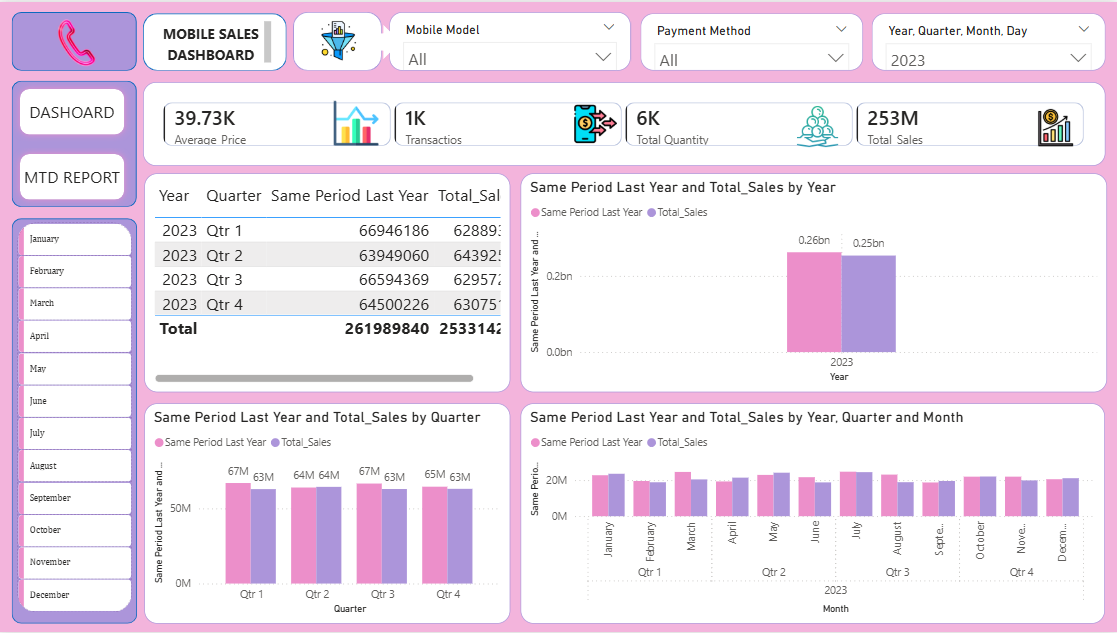

The dashboard page shown, as its layout file describes it:
{"tool":"powerbi","page":{"name":"SAME PERIOD LAST YEAR","canvas":[1280,720],"ordinal":2},"visuals":[{"type":"shape","box":[15.7,11.4,142.9,67.1],"z":0},{"type":"shape","box":[15.7,90,142.9,144.3],"z":1000},{"type":"cardVisual","fields":{"Data":["Moile sales data.Average_Price","Moile sales data.Transactios","Moile sales data.Total Quantity","Moile sales data.Total_Sales"]},"box":[166,92,1100,96],"z":2000},{"type":"image","box":[1186.7,113.3,43.3,61.7],"z":3000},{"type":"image","box":[911.7,116.7,50,50],"z":4000},{"type":"image","box":[658.6,112.9,48.6,52.9],"z":5000},{"type":"image","box":[382.9,112.9,52.9,51.4],"z":6000},{"type":"slicer","fields":{"Values":["Moile sales data.Mobile Model"]},"box":[447.1,11.4,275.7,67.1],"z":7000},{"type":"slicer","fields":{"Values":["Moile sales data.Payment Method"]},"box":[734.3,12.9,254.3,65.7],"z":8000},{"type":"slicer","fields":{"Values":["Custom_Calender.DATE.Variation.Date Hierarchy.Year","Custom_Calender.DATE.Variation.Date Hierarchy.Quarter","Custom_Calender.DATE.Variation.Date Hierarchy.Month","Custom_Calender.DATE.Variation.Date Hierarchy.Day"]},"box":[998.6,12.9,267.1,65.7],"z":9000},{"type":"shape","box":[337.1,11.4,101.4,67.1],"z":10000},{"type":"image","box":[342.9,20,92.9,48.6],"z":11000},{"type":"shape","box":[418.3,25,41.7,40],"z":12000},{"type":"shape","box":[165.7,12.9,164.3,65.7],"z":13000},{"type":"textbox","box":[178.3,16.7,138.3,58.3],"z":14000},{"type":"image","box":[0,0,182,92],"z":15000},{"type":"shape","box":[15,246.7,143.3,463.3],"z":17000},{"type":"advancedSlicerVisual","fields":{"Values":["Custom_Calender.DATE.Variation.Date Hierarchy.Month"]},"box":[16.7,246.7,141.7,463.3],"z":18000},{"type":"tableEx","fields":{"Values":["Custom_Calender.DATE.Variation.Date Hierarchy.Year","Custom_Calender.DATE.Variation.Date Hierarchy.Quarter","Moile sales data.Same Period Last Year","Moile sales data.Total_Sales"]},"box":[166.7,195,418.3,250],"z":18001},{"type":"clusteredColumnChart","fields":{"Category":["Custom_Calender.DATE.Variation.Date Hierarchy.Year","Custom_Calender.DATE.Variation.Date Hierarchy.Quarter"],"Y":["Moile sales data.Same Period Last Year","Moile sales data.Total_Sales"]},"box":[596.7,195,670,250],"z":18002},{"type":"clusteredColumnChart","fields":{"Category":["Custom_Calender.DATE.Variation.Date Hierarchy.Year","Custom_Calender.DATE.Variation.Date Hierarchy.Quarter"],"Y":["Moile sales data.Same Period Last Year","Moile sales data.Total_Sales"]},"box":[166.7,458.3,418.3,251.7],"z":18003},{"type":"clusteredColumnChart","fields":{"Category":["Custom_Calender.DATE.Variation.Date Hierarchy.Year","Custom_Calender.DATE.Variation.Date Hierarchy.Quarter","Custom_Calender.DATE.Variation.Date Hierarchy.Month","Custom_Calender.DATE.Variation.Date Hierarchy.Day"],"Y":["Moile sales data.Same Period Last Year","Moile sales data.Total_Sales"]},"box":[596.7,458.3,668.3,251.7],"z":18004},{"type":"pageNavigator","box":[16.7,91.7,135,143.3],"z":18005}]}

Visuals, with their boxes in screenshot pixels (x1, y1, x2, y2), scaled from the page's 1280x720 canvas onto the 1117x633 screenshot:
shape: box(14, 10, 138, 69)
shape: box(14, 79, 138, 206)
cardVisual - Moile sales data.Average_Price x Moile sales data.Transactios: box(145, 81, 1105, 165)
image: box(1036, 100, 1073, 154)
image: box(796, 103, 839, 147)
image: box(575, 99, 617, 146)
image: box(334, 99, 380, 144)
slicer - Moile sales data.Mobile Model: box(390, 10, 631, 69)
slicer - Moile sales data.Payment Method: box(641, 11, 863, 69)
slicer - Custom_Calender.DATE.Variation.Date Hierarchy.Year x Custom_Calender.DATE.Variation.Date Hierarchy.Quarter: box(871, 11, 1105, 69)
shape: box(294, 10, 383, 69)
image: box(299, 18, 380, 60)
shape: box(365, 22, 401, 57)
shape: box(145, 11, 288, 69)
textbox: box(156, 15, 276, 66)
image: box(0, 0, 159, 81)
shape: box(13, 217, 138, 624)
advancedSlicerVisual - Custom_Calender.DATE.Variation.Date Hierarchy.Month: box(15, 217, 138, 624)
tableEx - Custom_Calender.DATE.Variation.Date Hierarchy.Year x Custom_Calender.DATE.Variation.Date Hierarchy.Quarter: box(145, 171, 511, 391)
clusteredColumnChart - Custom_Calender.DATE.Variation.Date Hierarchy.Year x Custom_Calender.DATE.Variation.Date Hierarchy.Quarter: box(521, 171, 1105, 391)
clusteredColumnChart - Custom_Calender.DATE.Variation.Date Hierarchy.Year x Custom_Calender.DATE.Variation.Date Hierarchy.Quarter: box(145, 403, 511, 624)
clusteredColumnChart - Custom_Calender.DATE.Variation.Date Hierarchy.Year x Custom_Calender.DATE.Variation.Date Hierarchy.Quarter: box(521, 403, 1104, 624)
pageNavigator: box(15, 81, 132, 207)
